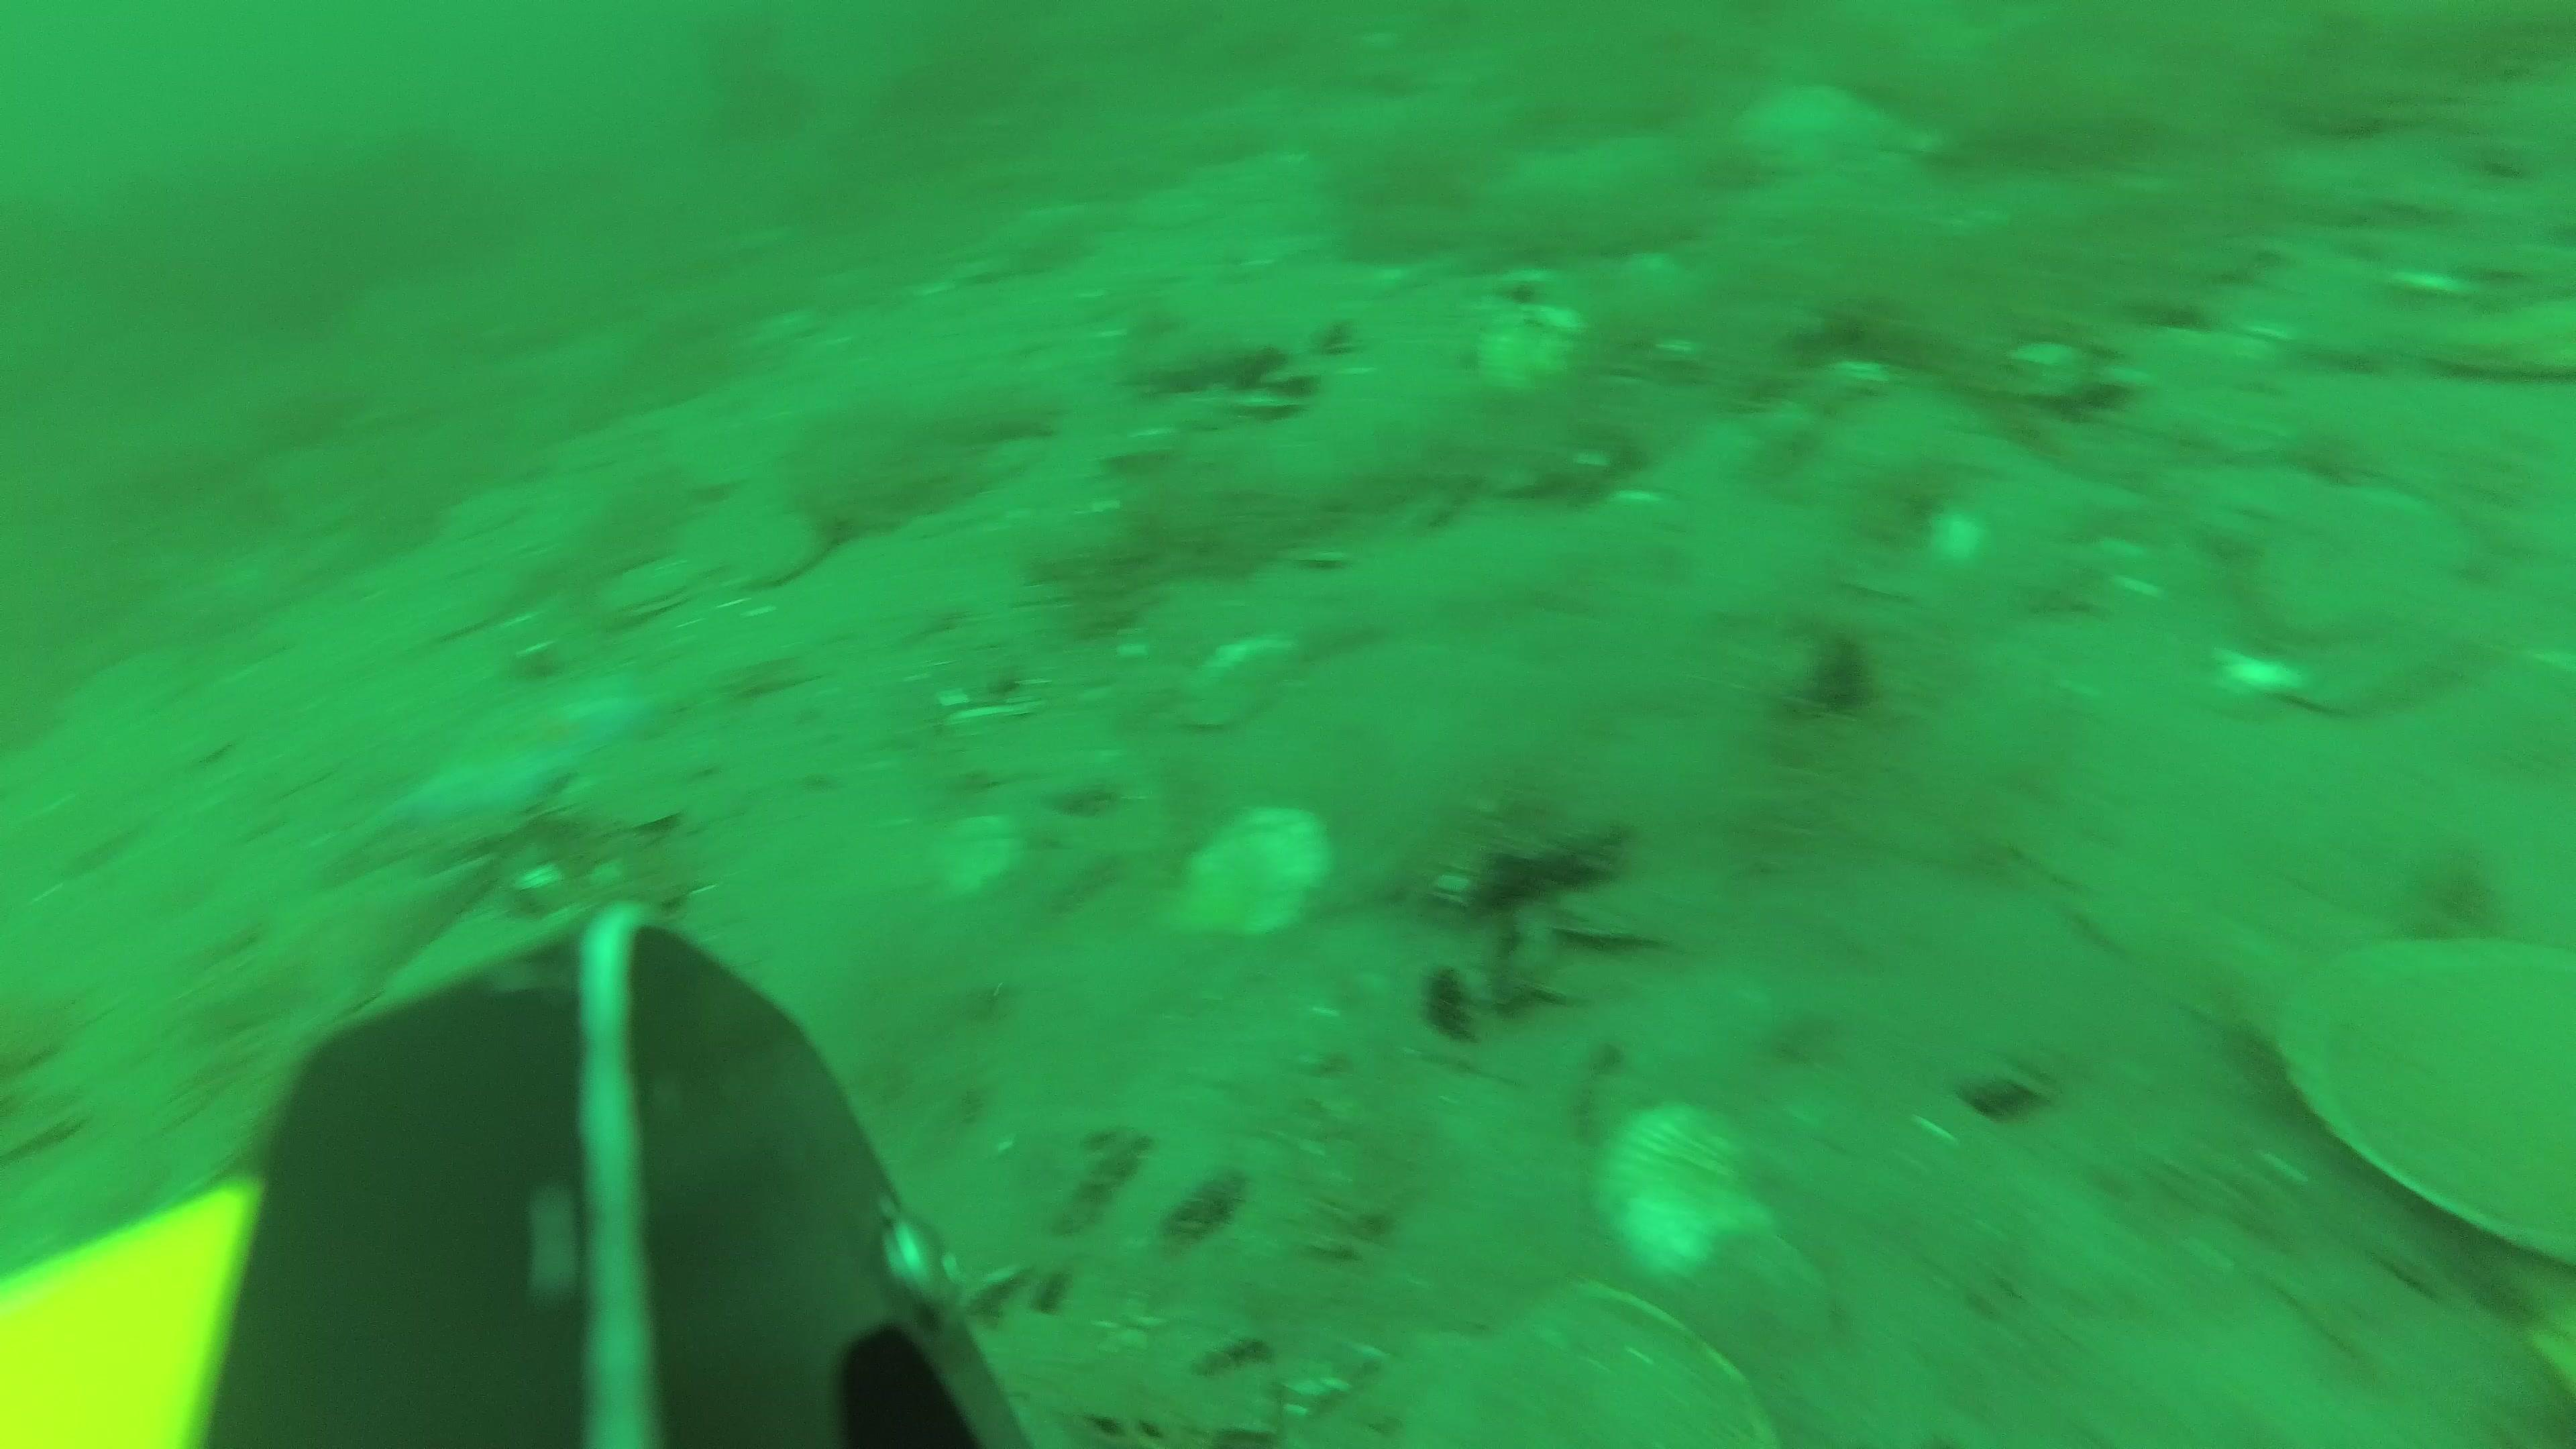scallop: (2279, 927, 2576, 1281), (1468, 1284, 1760, 1449), (2261, 488, 2443, 628), (1596, 1108, 1755, 1254), (1159, 807, 1329, 943), (2289, 628, 2472, 708), (2419, 292, 2576, 373), (740, 492, 853, 589), (1714, 1228, 1835, 1316), (1175, 639, 1292, 725), (1484, 304, 1585, 402), (916, 814, 1019, 901), (612, 563, 692, 619)
starfish: (211, 844, 487, 1042), (345, 685, 669, 849), (1727, 76, 1916, 166)
